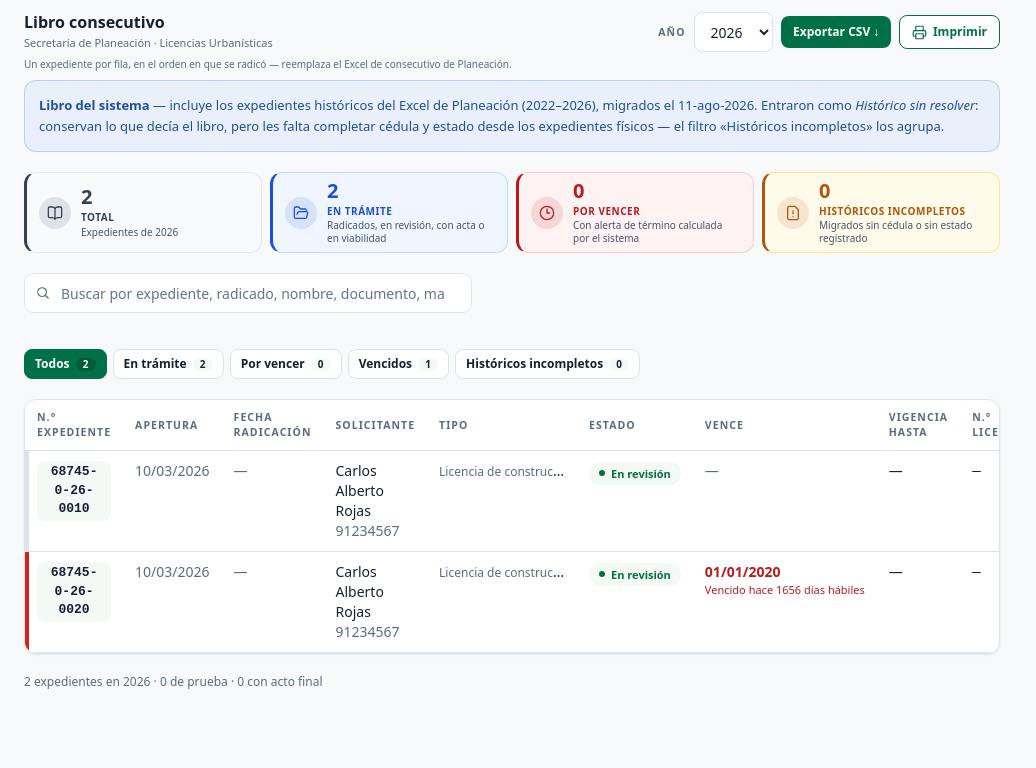
Test: LibroConsecutivoClient › filtro "Vencidos" reduce las filas visibles; "Todos" las restaura
Select "2026" in the dropdown named "Año del libro consecutivo". click: (733, 32)
box: [694,12,773,52]
Expected: the text "68745-0-26-0020" is shown, [37,562,111,622]
Expected: the text "68745-0-26-0010" is shown, [37,461,111,521]
Click the button "Vencidos 1". click: (398, 364)
box: [348,349,449,379]
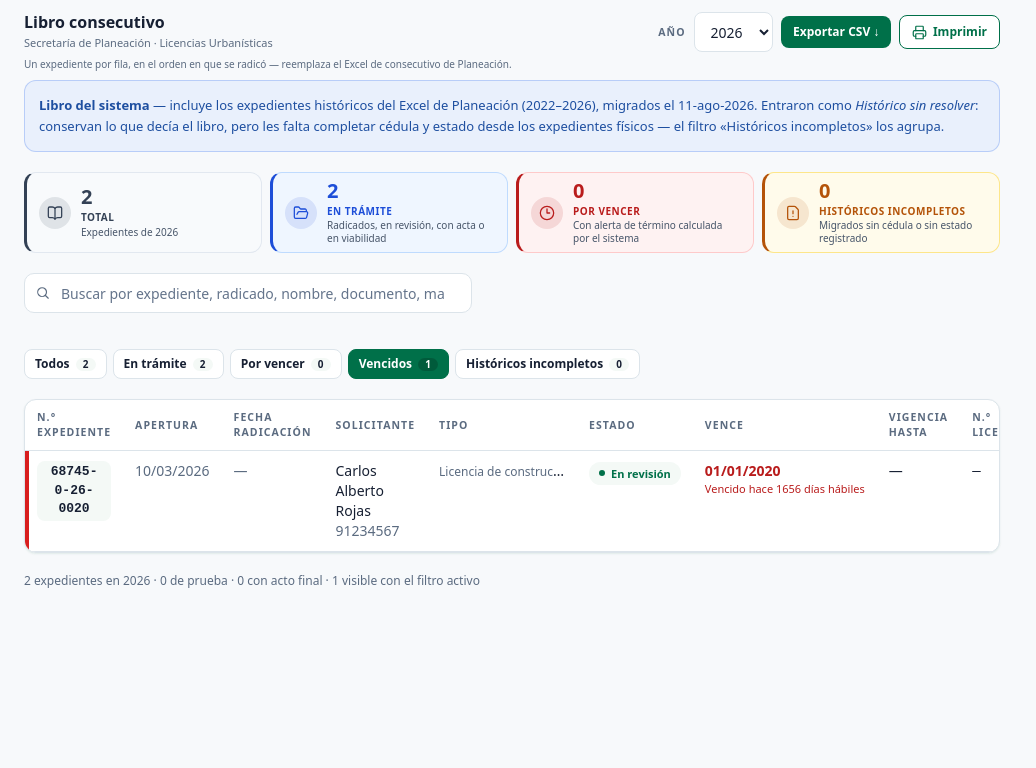
Expected: the text "68745-0-26-0020" is shown, [37,461,111,521]
Result: the button "68745-0-26-0010" is gone
Click the button "Todos 2". click: (65, 364)
box: [24,349,106,379]
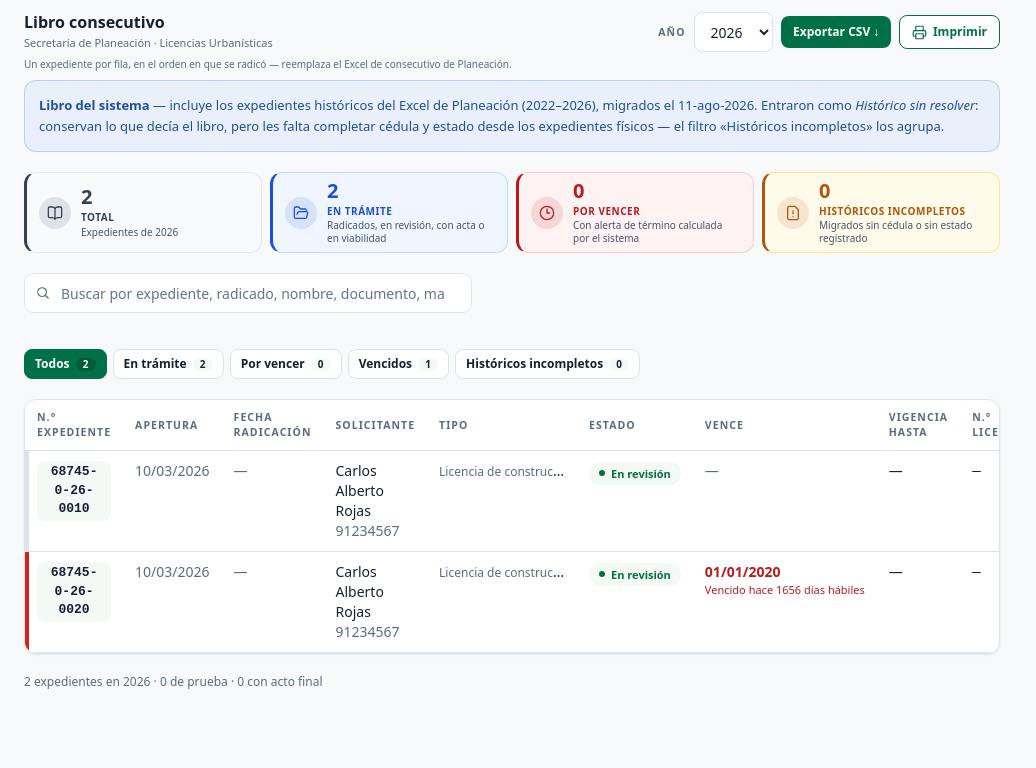
Expected: the text "68745-0-26-0020" is shown, [37,562,111,622]
Result: the text "68745-0-26-0010" is shown at [37,461,111,521]
